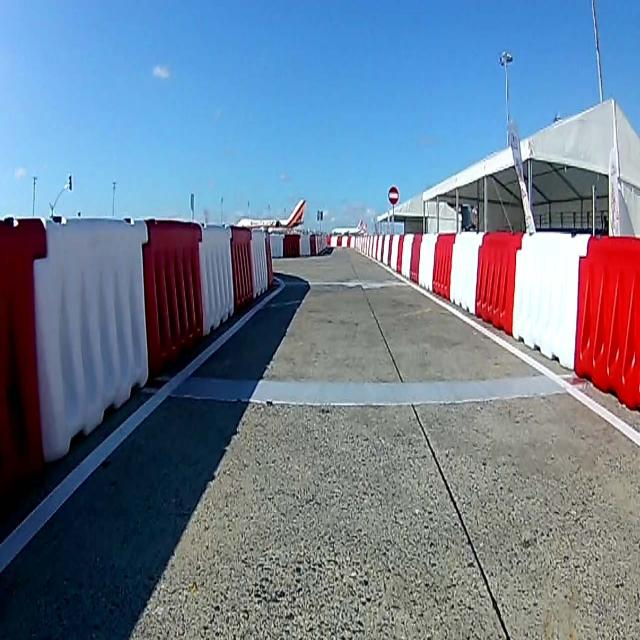girisyok: (387, 185, 400, 207)
